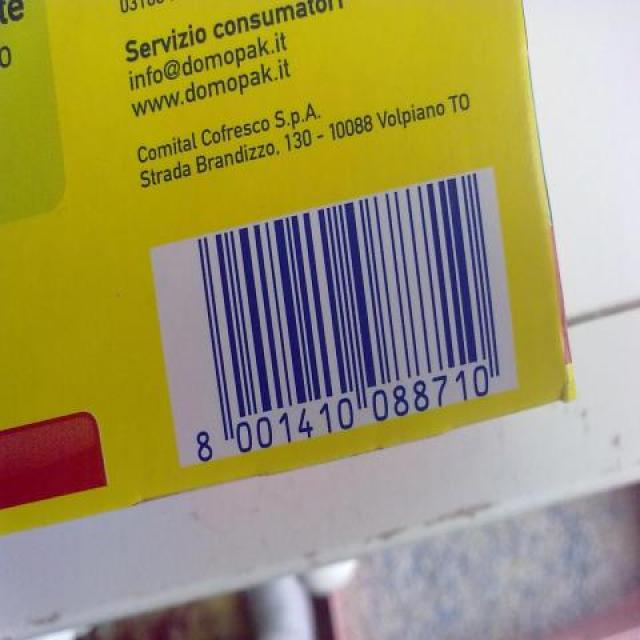Barcode: (147, 162, 524, 473)
